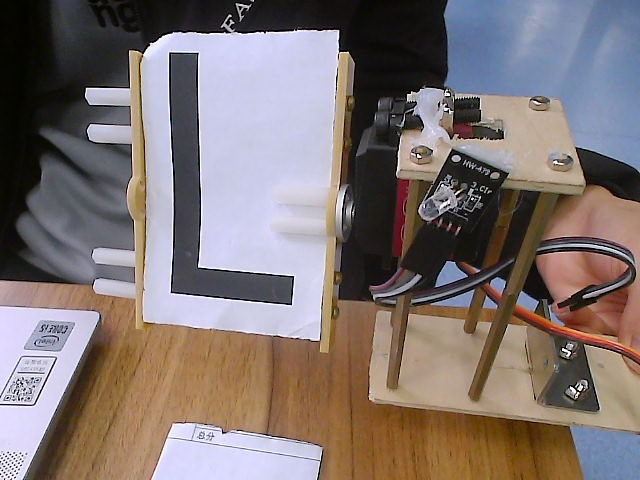L: (77, 24, 422, 382)
